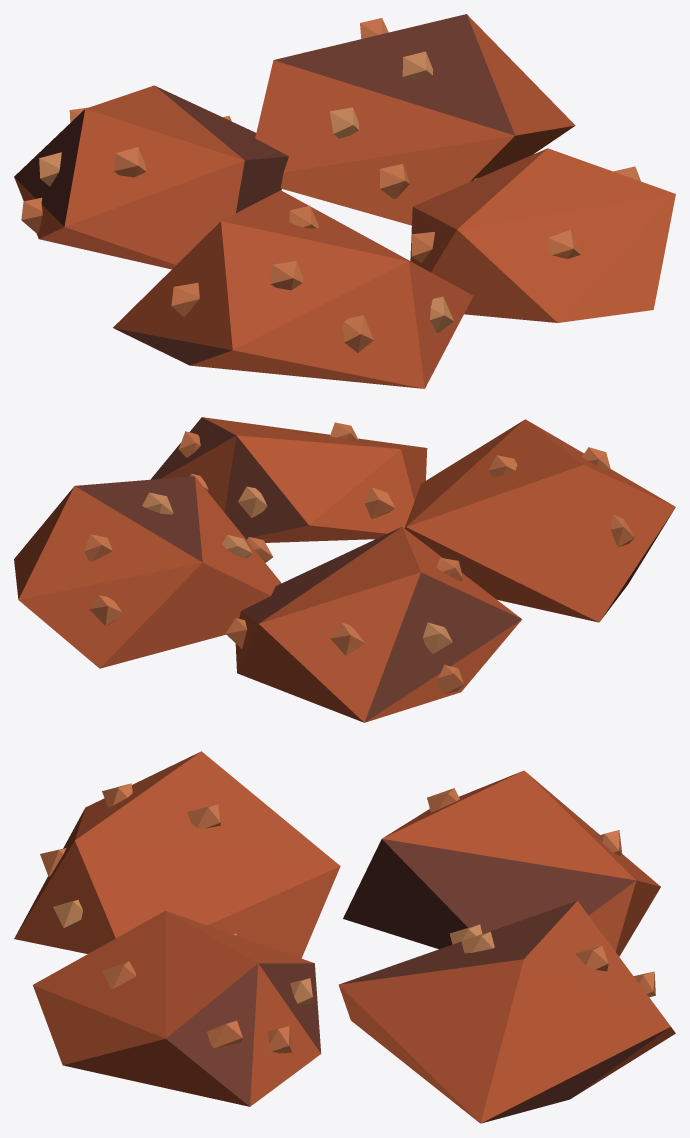
The model's file is minerai_bauxite_1.glb.
The picture shows the model from 3 angles, top to bottom: view 1: azimuth 30°, elevation 25°; view 2: azimuth 150°, elevation 25°; view 3: azimuth 270°, elevation 25°; orthographic projection. The views are drawn at different scales.
Parts seen in each view (by area): view 1: minerai_bauxite.004, minerai_brique_sombre.004, minerai_bauxite_clair.004, minerai_gres_clair.004; view 2: minerai_bauxite.004, minerai_brique_sombre.004, minerai_bauxite_clair.004, minerai_gres_clair.004; view 3: minerai_bauxite.004, minerai_brique_sombre.004, minerai_bauxite_clair.004, minerai_gres_clair.004.
Boxes of the visible parts, x1,y1,x2,y2 form: minerai_bauxite.004: (14,14,675,388); minerai_brique_sombre.004: (14,14,514,365); minerai_bauxite_clair.004: (21,18,640,352); minerai_gres_clair.004: (39,51,477,332); minerai_bauxite.004: (14,417,675,722); minerai_brique_sombre.004: (75,417,672,722); minerai_bauxite_clair.004: (84,422,634,693); minerai_gres_clair.004: (142,486,452,653); minerai_bauxite.004: (14,751,675,1123); minerai_brique_sombre.004: (166,839,669,1123); minerai_bauxite_clair.004: (40,783,655,1053); minerai_gres_clair.004: (53,900,494,1004).
Size of the model in its own units: 0.547 by 0.1212 by 0.5526.
